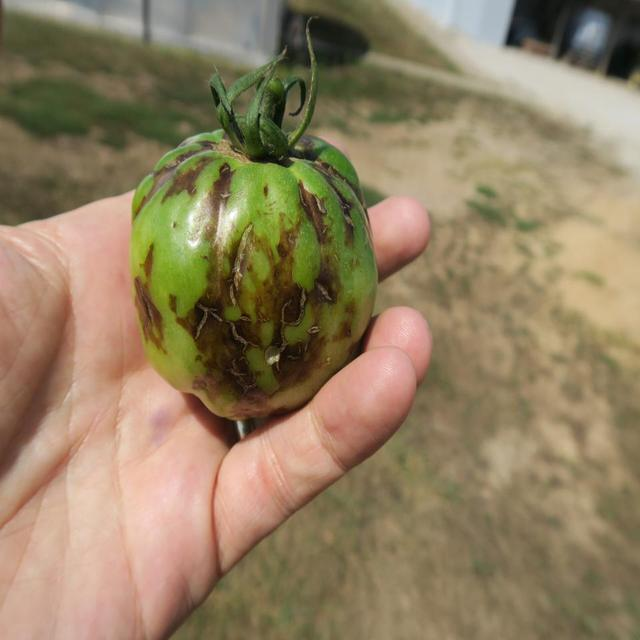Spotted wilt Virus Fruit: (88, 80, 249, 281)
